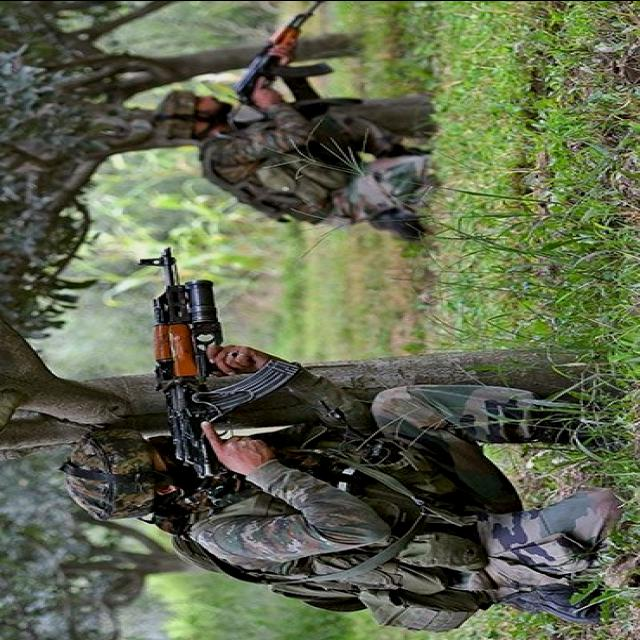long weapon: (111, 240, 294, 480), (221, 1, 341, 119)
